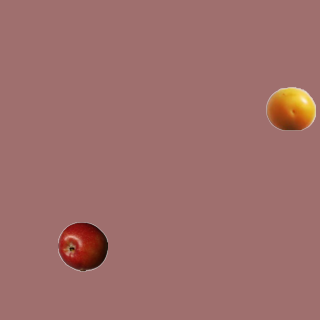Apple Braeburn: (57, 221, 107, 271)
Cherry Wax Yellow: (265, 83, 315, 133)
